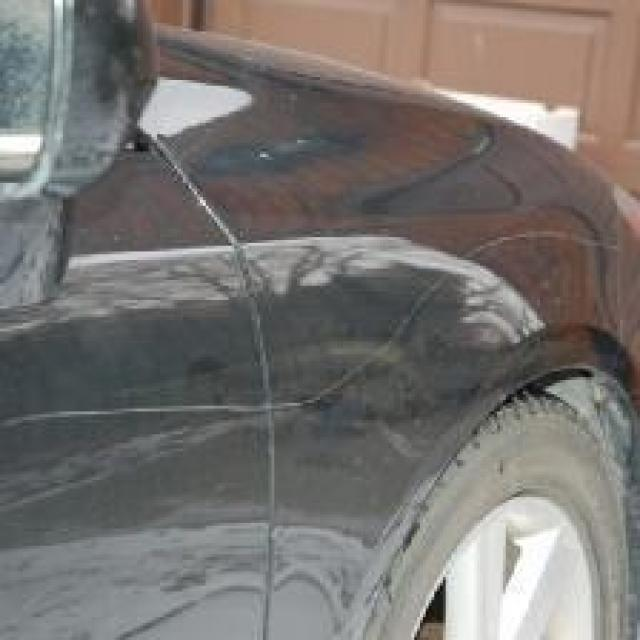damaged: (0, 248, 557, 432)
